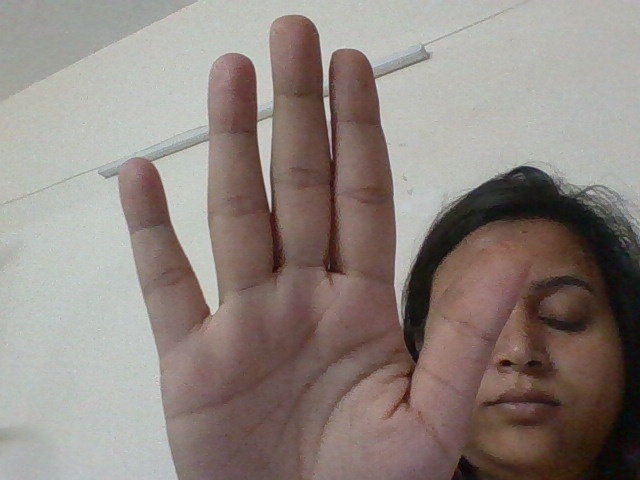pause: (80, 10, 538, 476)
